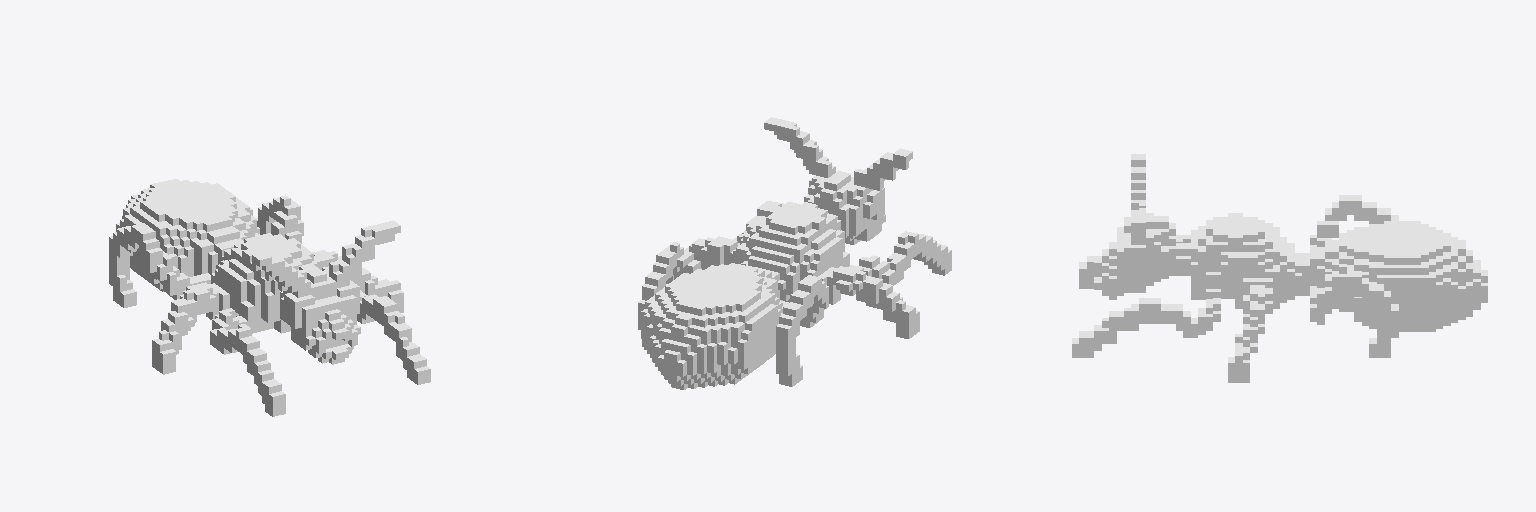
File: ant_attack_v1-1.obj
3 renders of one model, left to right at view 1: azimuth 30°, elevation 25°; view 2: azimuth 150°, elevation 25°; view 3: azimuth 270°, elevation 25°, orthographic.
Parts seen in each view (by area): view 1: object 1; view 2: object 1; view 3: object 1.
Boxes of the visible parts, <box> form: object 1: <box>109,179,430,416</box>; object 1: <box>638,117,951,389</box>; object 1: <box>1072,154,1487,382</box>.
Size of the model in its own units: 3.8 by 2 by 5.6.